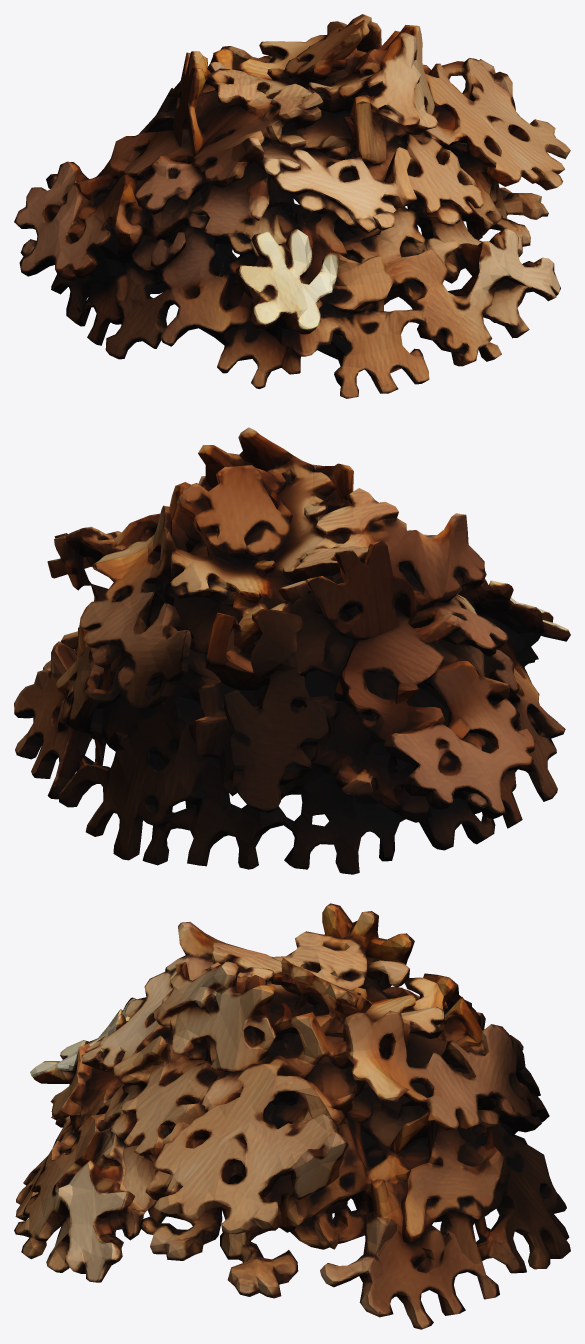
Rendered from wooden-jigsaw-puzzle-3d.jpeg.glb.
3 renders of one model, top to bottom at view 1: azimuth 30°, elevation 25°; view 2: azimuth 150°, elevation 25°; view 3: azimuth 270°, elevation 25°, orthographic. The views are drawn at different scales.
Parts seen in each view (by area): view 1: world; view 2: world; view 3: world.
Part boxes in pixels (left/top/right/bottom): world: left=14, top=14, right=570, bottom=398; world: left=14, top=427, right=570, bottom=874; world: left=14, top=903, right=570, bottom=1329.
Bounding box in the file's own units: 0.9988 × 0.5479 × 0.8959.
1 material, 1 textured.
